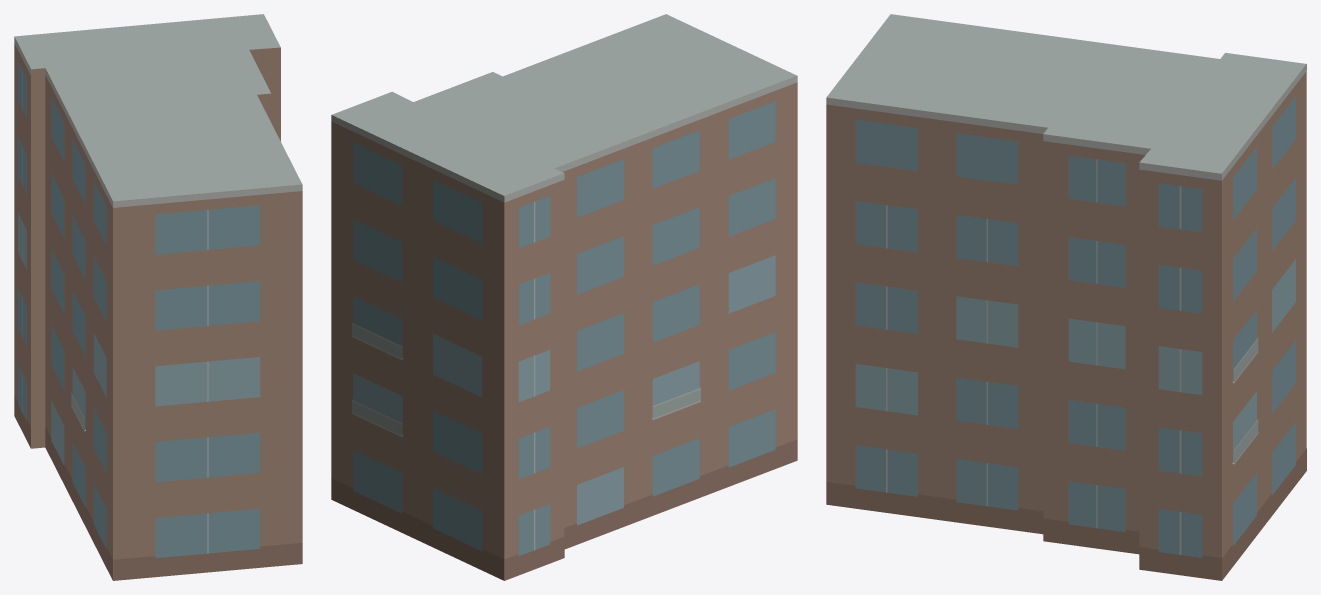
File: survey-upis-32762458.glb
3 renders of one model, left to right at view 1: azimuth 30°, elevation 25°; view 2: azimuth 150°, elevation 25°; view 3: azimuth 270°, elevation 25°, orthographic. The views are drawn at different scales.
Visible parts, largest first — view 1: survey-upis-32762458.tmp; view 2: survey-upis-32762458.tmp; view 3: survey-upis-32762458.tmp.
Boxes of the visible parts, box(x1,y1,x2,y2) form: survey-upis-32762458.tmp: box(14, 14, 302, 580); survey-upis-32762458.tmp: box(331, 14, 797, 580); survey-upis-32762458.tmp: box(826, 14, 1306, 580).
Bounding box in the file's own units: 12.05 × 14.3 × 15.3.
